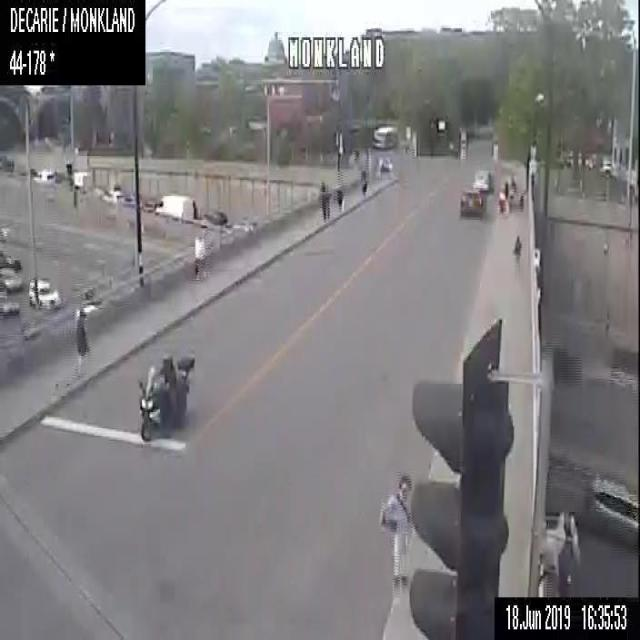bus: (372, 124, 397, 149)
pedestrian: (376, 472, 410, 596), (73, 305, 91, 371), (192, 228, 206, 277), (318, 177, 330, 220), (511, 232, 522, 267), (335, 185, 343, 212), (498, 190, 504, 218), (504, 180, 509, 204), (361, 173, 366, 195), (510, 175, 516, 192)
vehicle: (136, 349, 196, 442), (584, 474, 639, 550), (155, 194, 197, 222), (29, 274, 61, 308), (459, 189, 487, 215), (0, 292, 25, 316), (0, 264, 21, 291), (471, 169, 493, 193), (202, 208, 228, 226), (32, 169, 56, 184), (101, 188, 124, 203), (120, 194, 136, 210), (142, 200, 159, 212), (16, 168, 28, 184)
